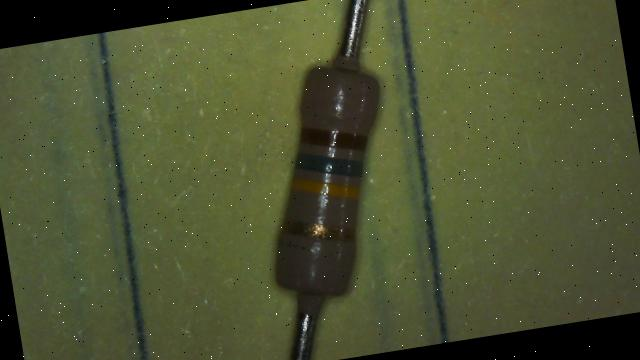brown: (298, 118, 369, 160)
gold: (280, 209, 358, 250)
grey: (293, 144, 365, 184)
resistor: (245, 52, 411, 314)
yellow: (290, 168, 360, 209)
